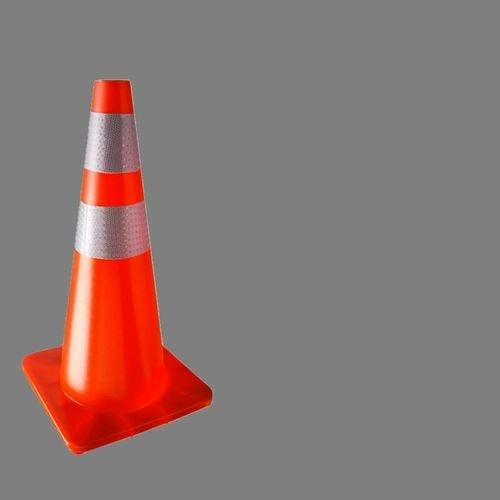cone_barrel: (38, 81, 192, 428)
